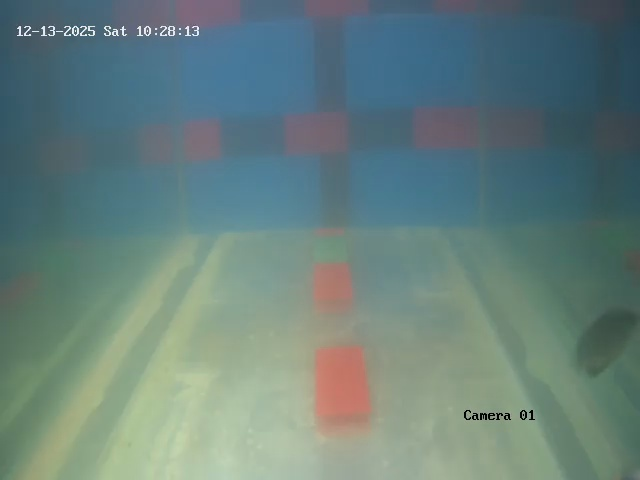fish: (571, 304, 632, 378)
